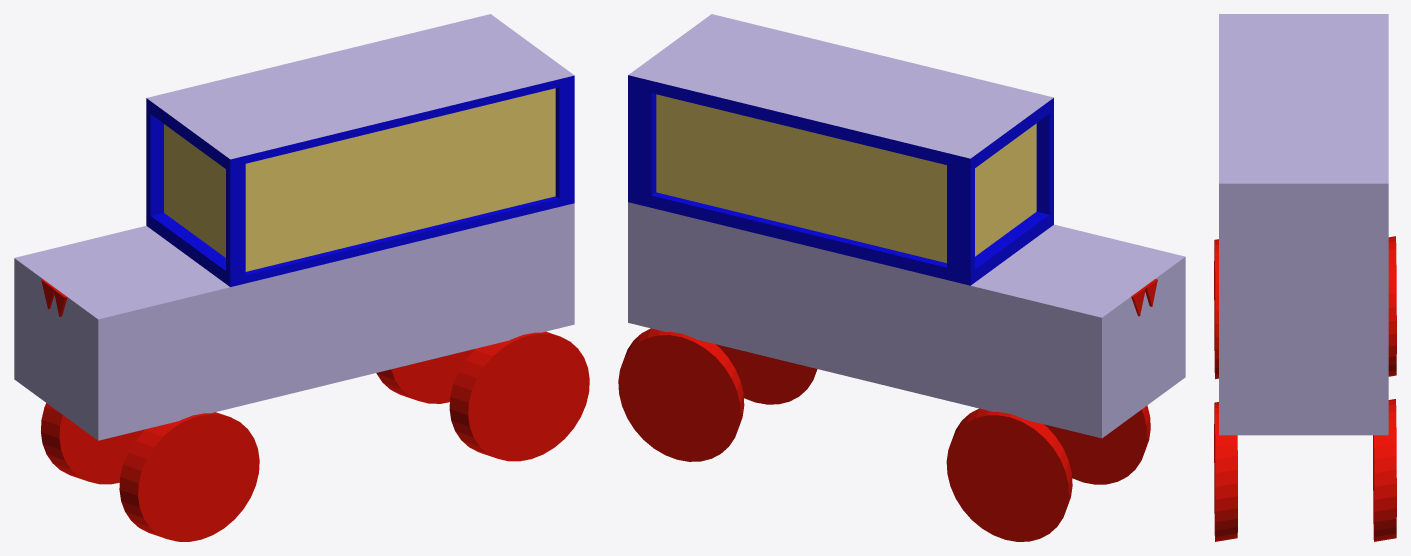
Rendered from araba1.glb.
3 views of the same model, side by side, from view 1: azimuth 30°, elevation 25°; view 2: azimuth 150°, elevation 25°; view 3: azimuth 270°, elevation 25° (orthographic).
Visible parts, largest first — view 1: Cube; view 2: Cube; view 3: Cube.
Part boxes in pixels (bbox=[...]): Cube: bbox=[14, 14, 589, 541]; Cube: bbox=[618, 14, 1185, 541]; Cube: bbox=[1214, 14, 1396, 541].
Size of the model in its own units: 1.5 by 1.08 by 0.4771.
